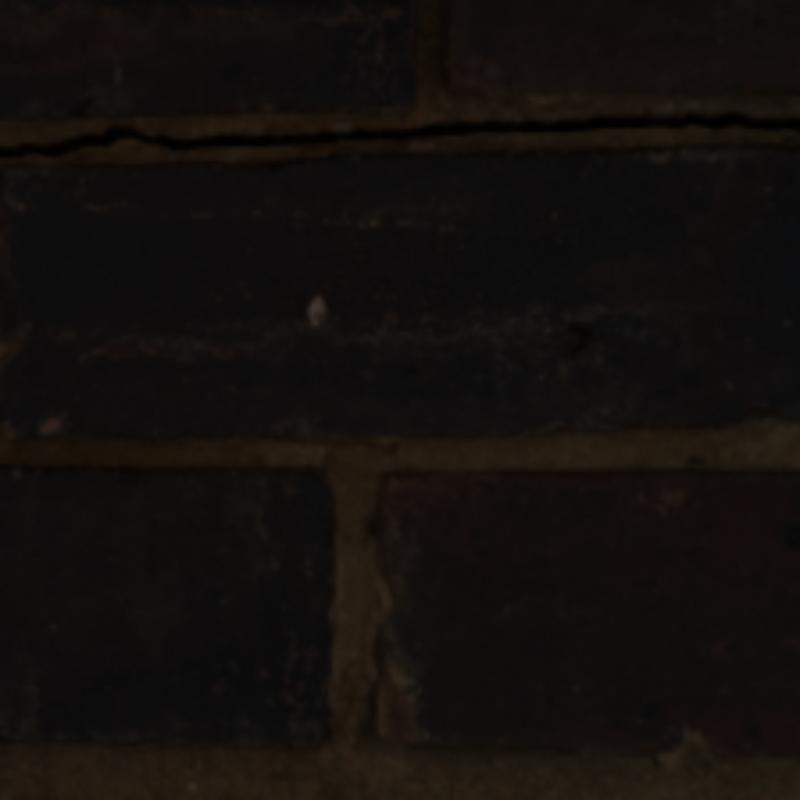pothole: (0, 111, 796, 154)
